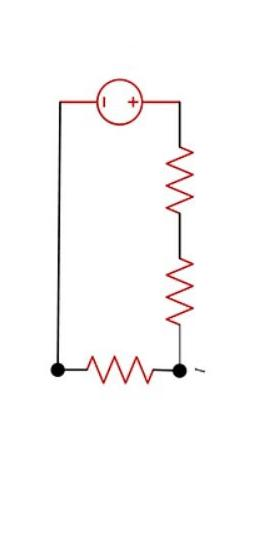resistor: (147, 132, 221, 242), (75, 342, 158, 406)
